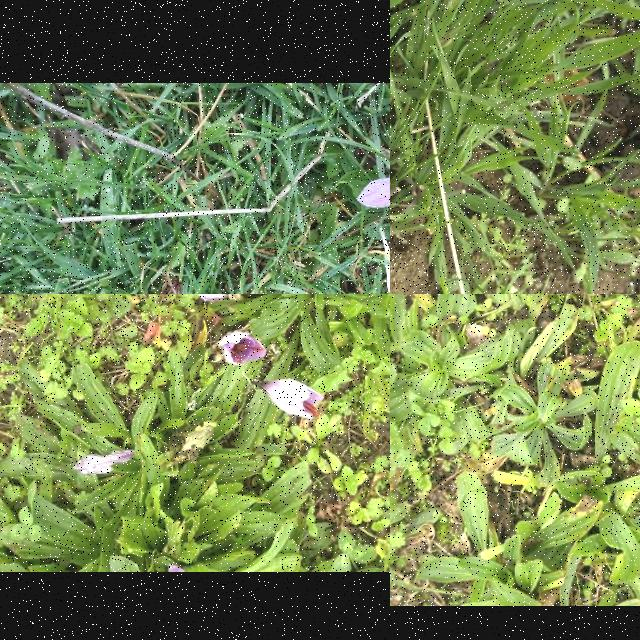flower: (357, 83, 390, 209), (258, 378, 324, 422), (220, 329, 268, 366), (195, 294, 229, 301)
